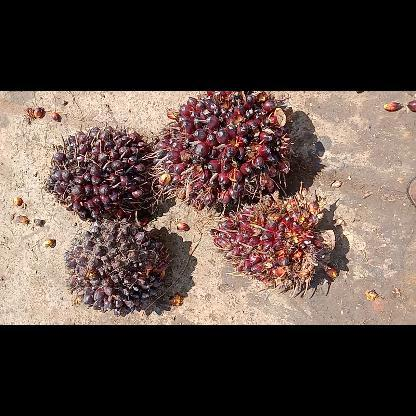Kurang masak: (151, 91, 293, 221), (209, 182, 335, 296), (42, 124, 156, 224), (64, 219, 170, 315)
